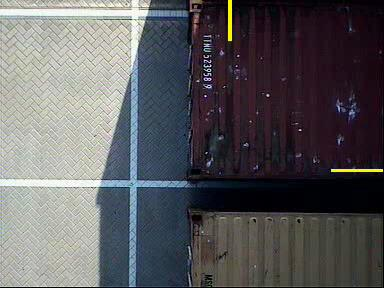groundmarker_2: (140, 72, 200, 106), (140, 230, 199, 264)
